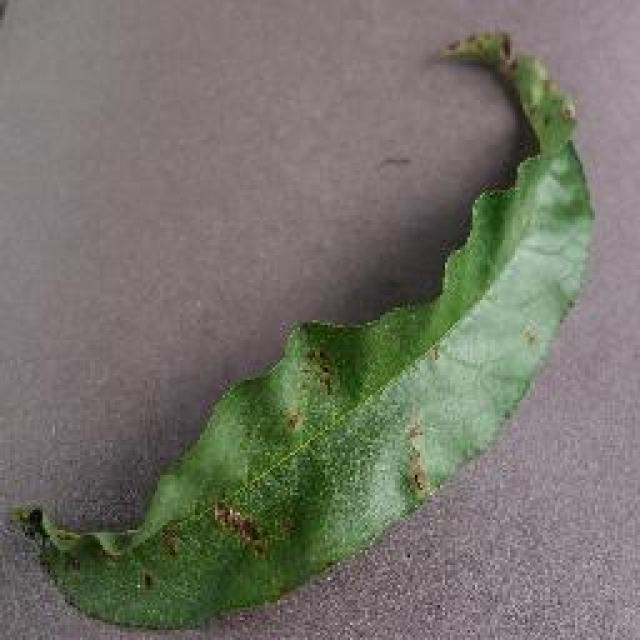Peach_Bacterial_Spot: (146, 378, 496, 597)
